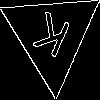K: (27, 10, 73, 67)
